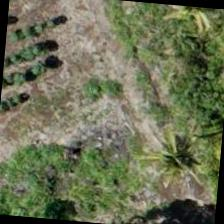Kelapa_Sawit: (124, 118, 222, 216)
